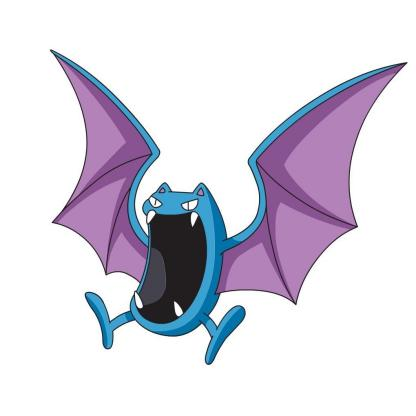Golbat: (33, 39, 416, 372)
